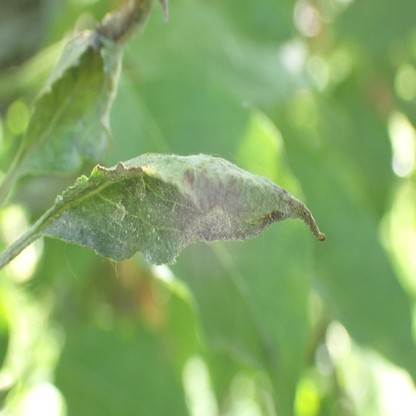powdery_mildew: (43, 151, 325, 266)
